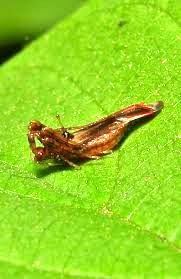Helopeltis-insect: (24, 100, 164, 170)
